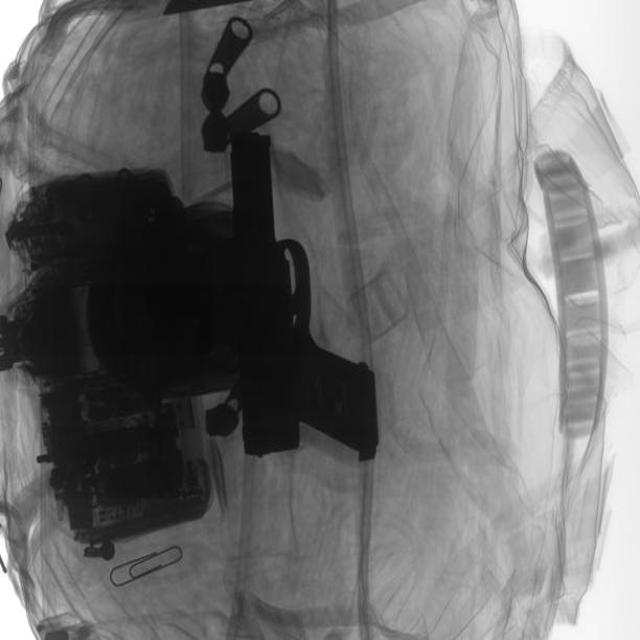knife: (224, 127, 377, 479)
